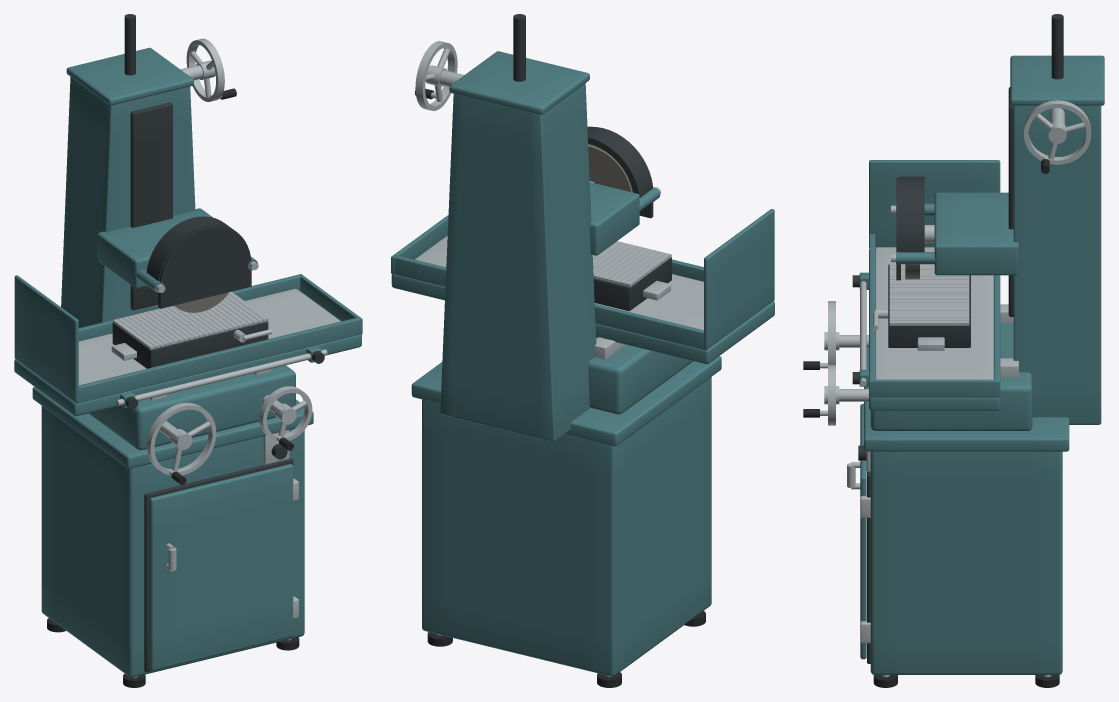
Rendered from A-NEW-20261026-SURFACE-GRINDER-001_LOD0_R4.fbx.
The picture shows the model from 3 angles, left to right: view 1: azimuth 30°, elevation 25°; view 2: azimuth 150°, elevation 25°; view 3: azimuth 270°, elevation 25°; orthographic projection. The views are drawn at different scales.
Parts seen in each view (by area): view 1: cabinet body, cabinet door, tapered vertical column, upper saddle base, column dark slide cover, left splash plate, round wheel guard face, table raised rim, long table flat bed, cabinet top cap, column top cap, long table casting (+12 smaller); view 2: cabinet body, tapered vertical column, left splash plate, column top cap, cabinet top cap, upper saddle base, long table casting, table raised rim.001, long table flat bed, grinding head mount, upper wheel guard curved rim, magnetic chuck casing (+4 smaller); view 3: cabinet body, tapered vertical column, long table flat bed, grinding head mount, left splash plate, cabinet top cap, upper saddle base, column top cap, right table end lip, long table casting, upper wheel guard curved rim, magnetic chuck casing (+12 smaller).
Part boxes in pixels (x1,y1,x2,y2): cabinet body: (41, 406, 304, 677); cabinet door: (149, 464, 293, 670); tapered vertical column: (61, 77, 195, 327); upper saddle base: (88, 365, 295, 450); column dark slide cover: (130, 102, 172, 310); left splash plate: (14, 275, 78, 402); round wheel guard face: (158, 226, 251, 308); table raised rim: (76, 317, 359, 403); long table flat bed: (78, 288, 340, 385); cabinet top cap: (32, 387, 313, 468); column top cap: (66, 47, 193, 105); long table casting: (14, 291, 361, 416); cabinet body: (422, 377, 711, 676); tapered vertical column: (440, 83, 596, 441); left splash plate: (704, 209, 774, 349); column top cap: (449, 51, 589, 114); cabinet top cap: (411, 356, 721, 446); upper saddle base: (588, 337, 693, 414); long table casting: (391, 235, 774, 364); table raised rim.001: (394, 255, 707, 350); long table flat bed: (415, 236, 703, 329); grinding head mount: (589, 182, 639, 255); upper wheel guard curved rim: (587, 126, 652, 197); magnetic chuck casing: (593, 257, 671, 311); cabinet body: (870, 451, 1062, 674); tapered vertical column: (1013, 105, 1101, 424); long table flat bed: (875, 247, 993, 379); grinding head mount: (934, 192, 1018, 275); left splash plate: (869, 160, 1000, 248); cabinet top cap: (864, 347, 1069, 451); upper saddle base: (870, 323, 1032, 430); column top cap: (1010, 55, 1104, 105); right table end lip: (869, 379, 1000, 397); long table casting: (869, 249, 1000, 410); upper wheel guard curved rim: (899, 176, 924, 252); magnetic chuck casing: (888, 264, 970, 347).
Bounding box in the file's own units: 105 × 205 × 89.5.
